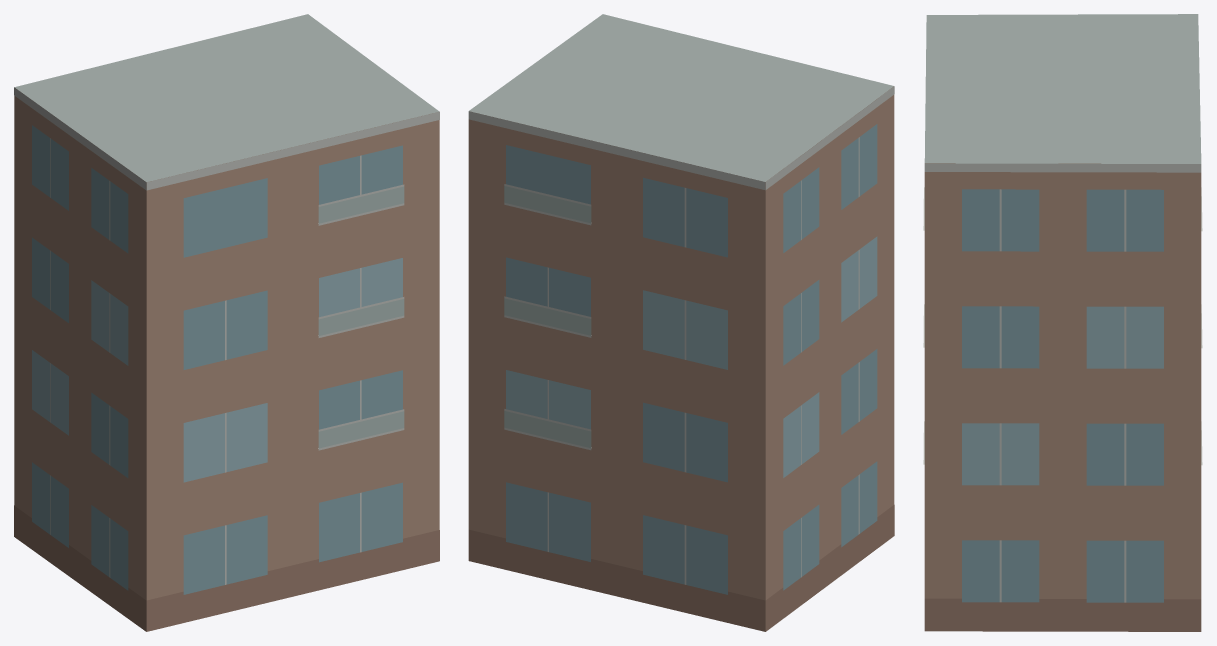
File: survey-upis-32960374.glb
The picture shows the model from 3 angles, left to right: view 1: azimuth 30°, elevation 25°; view 2: azimuth 150°, elevation 25°; view 3: azimuth 270°, elevation 25°; orthographic projection. The views are drawn at different scales.
Visible parts, largest first — view 1: survey-upis-32960374.tmp; view 2: survey-upis-32960374.tmp; view 3: survey-upis-32960374.tmp.
Boxes of the visible parts, bbox=[...] form: survey-upis-32960374.tmp: bbox=[14, 14, 439, 631]; survey-upis-32960374.tmp: bbox=[468, 14, 894, 631]; survey-upis-32960374.tmp: bbox=[923, 14, 1202, 631].
Size of the model in its own units: 9.15 by 13.3 by 7.19.
